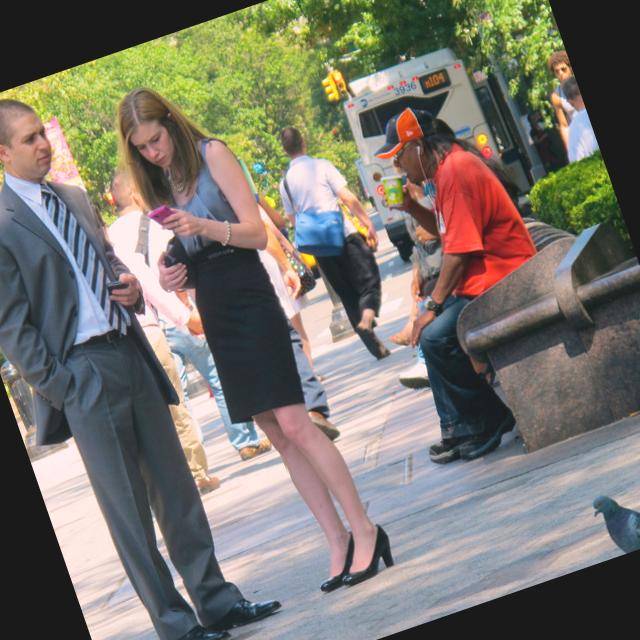Vehicle: (334, 32, 544, 262), (334, 41, 526, 267)
